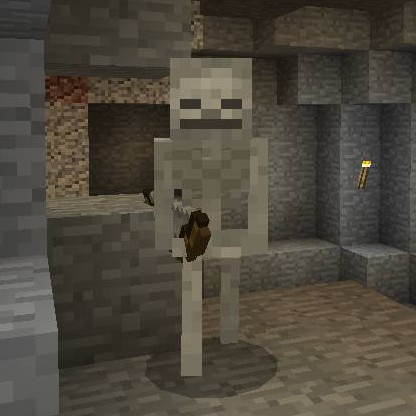skeleton: (148, 53, 289, 210)
